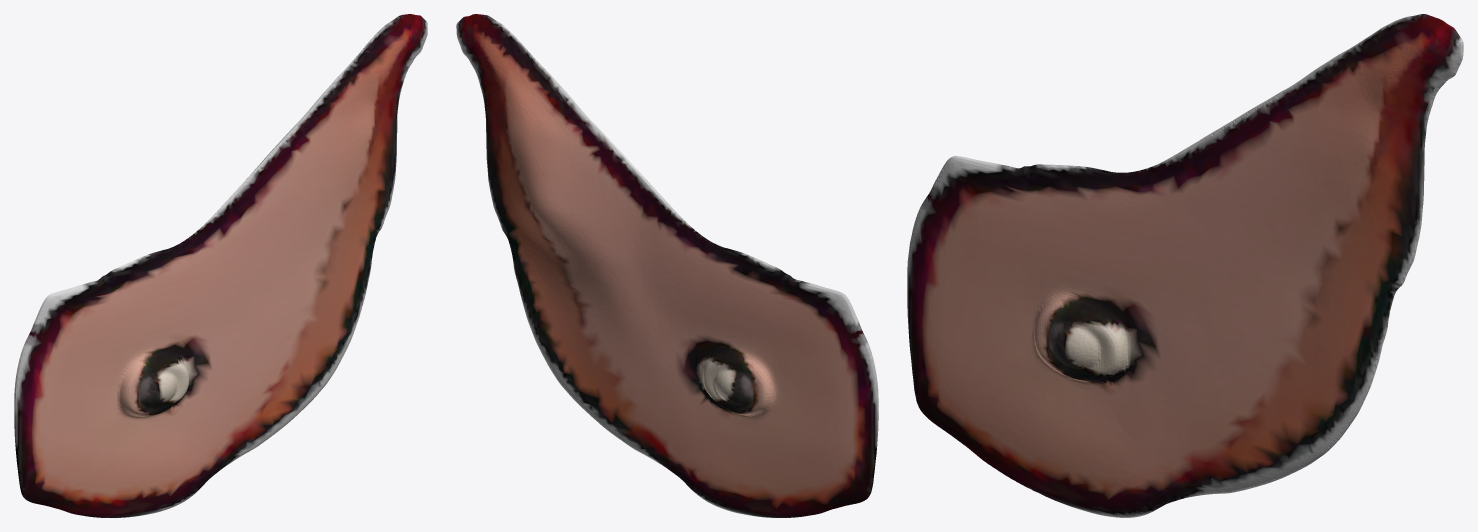
File: orcchop.glb
3 views of the same model, side by side, from view 1: azimuth 30°, elevation 25°; view 2: azimuth 150°, elevation 25°; view 3: azimuth 330°, elevation 25° (orthographic). The views are drawn at different scales.
Parts seen in each view (by area): view 1: geometry_0; view 2: geometry_0; view 3: geometry_0.
Boxes of the visible parts, <box> form: geometry_0: <box>14,14,427,517</box>; geometry_0: <box>456,14,878,517</box>; geometry_0: <box>907,14,1463,517</box>.
Size of the model in its own units: 0.4688 by 0.4688 by 0.0556.
